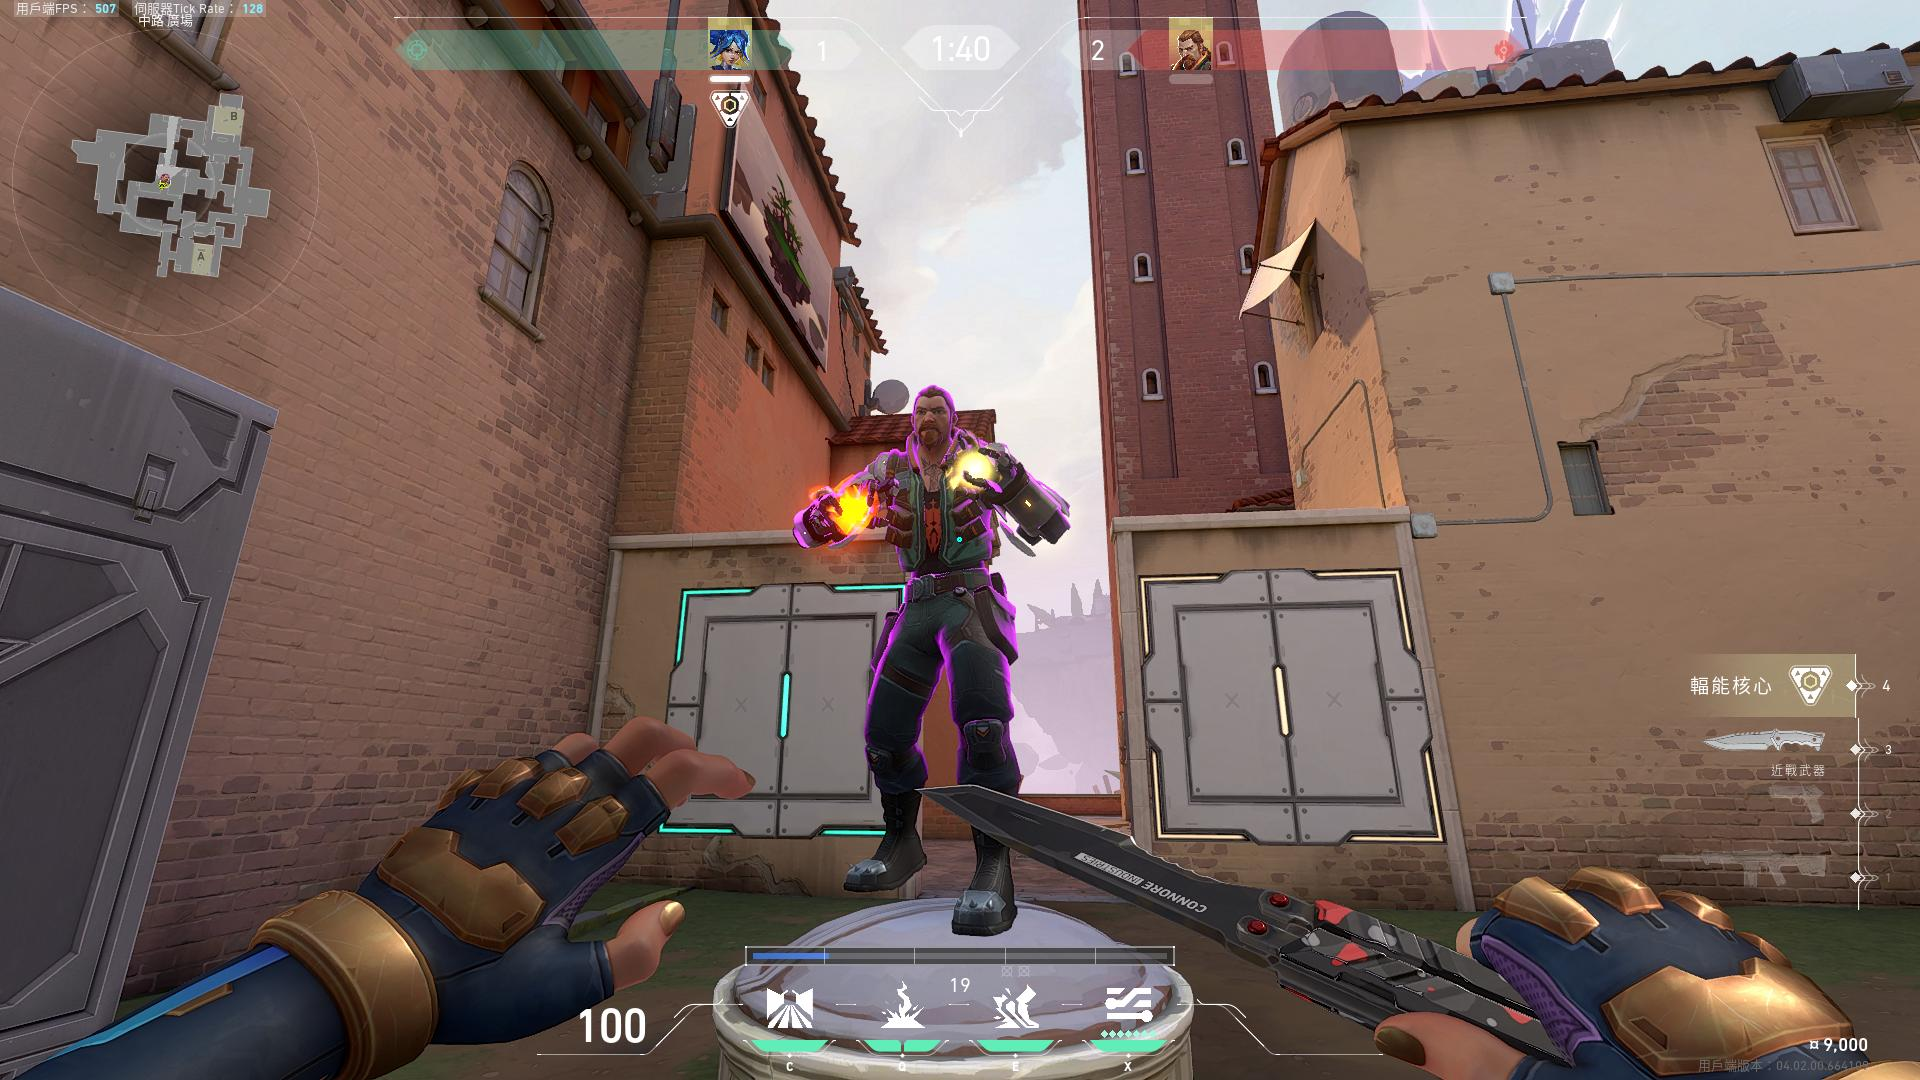enemyBody: (915, 460, 990, 560)
enemyHead: (913, 382, 963, 447)
